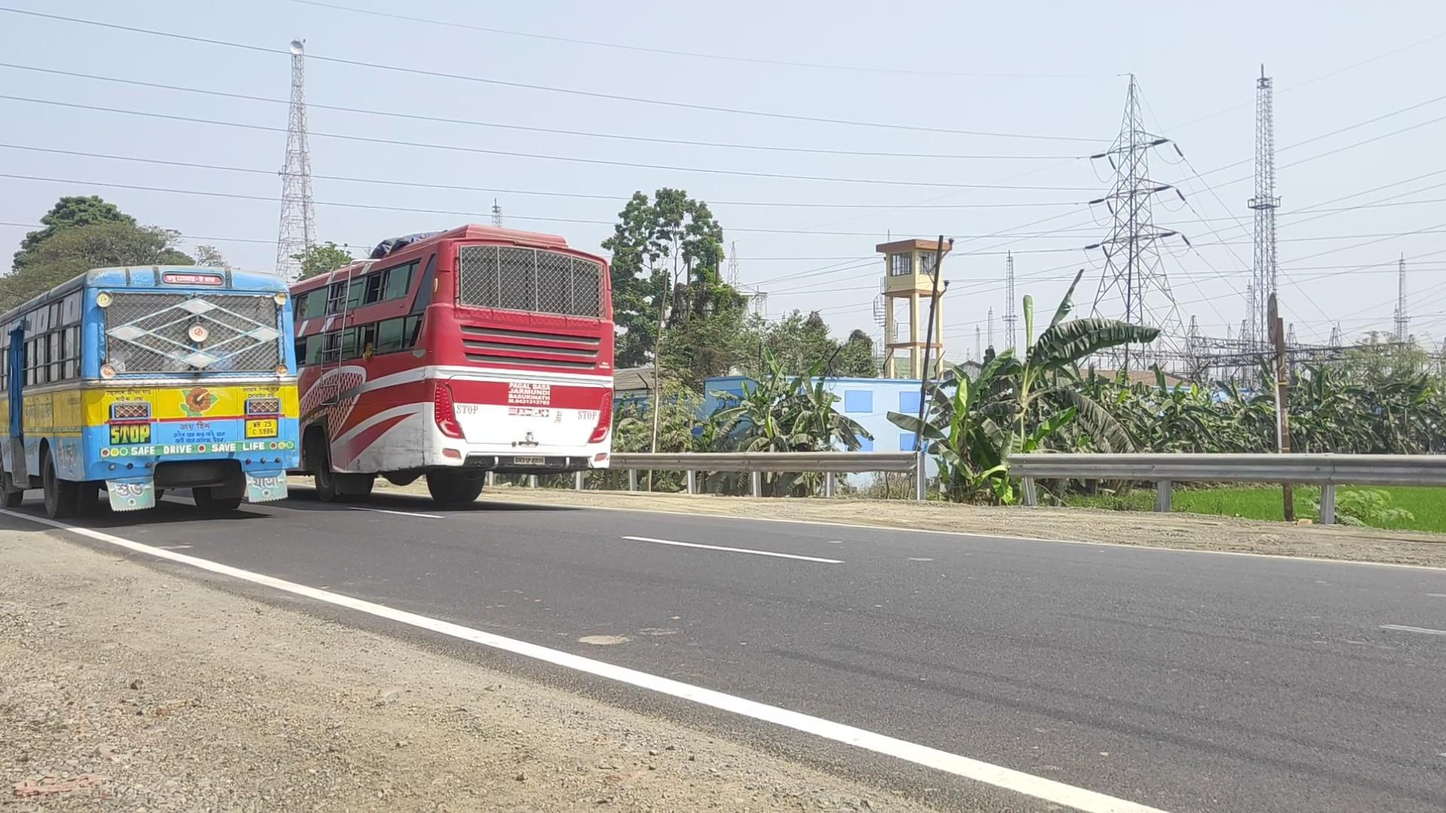Bus: (288, 224, 615, 507), (1, 265, 300, 519)
